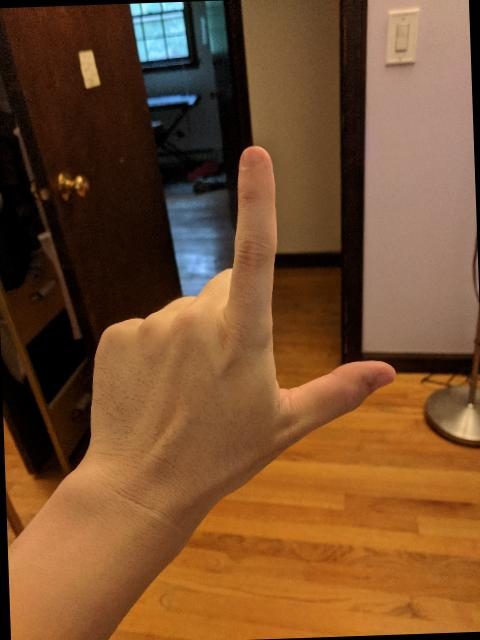L: (71, 135, 409, 517)
